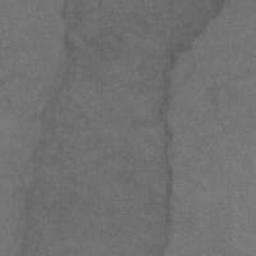Water spot: (15, 0, 229, 256)
